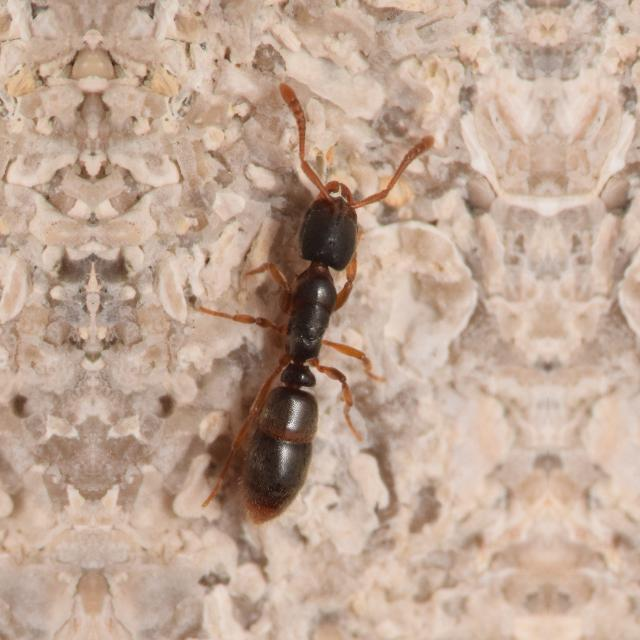Ponera: (150, 93, 464, 527)
